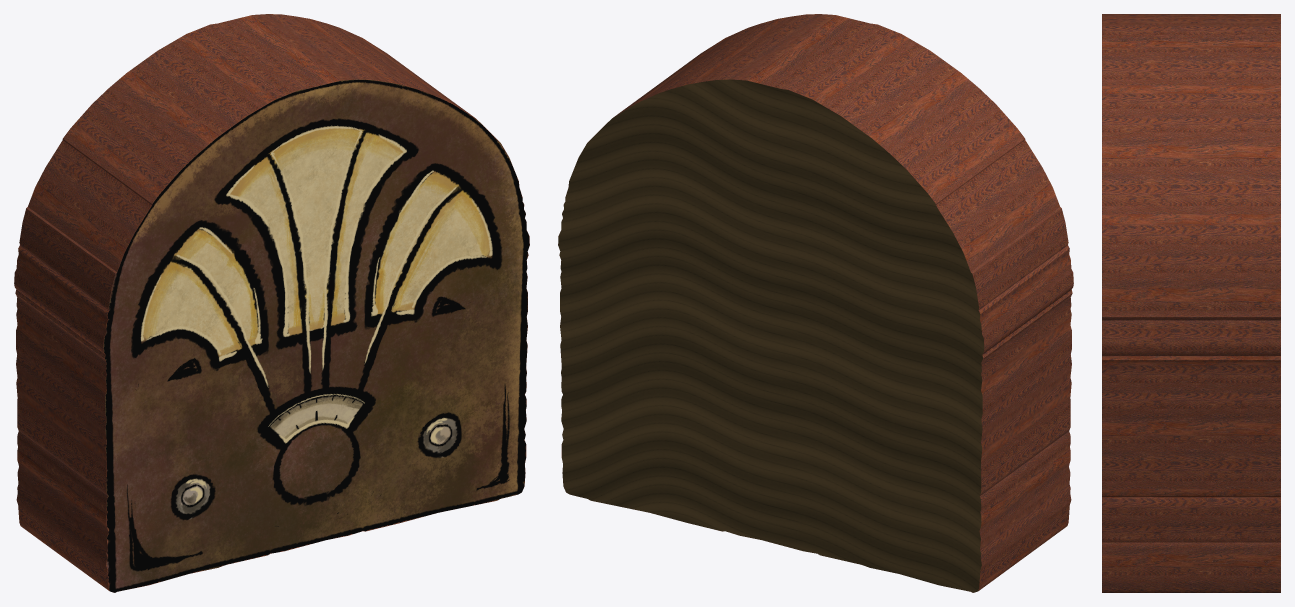
The model's file is RadioWoodenBodyDepth.fbx.
The picture shows the model from 3 angles, left to right: view 1: azimuth 30°, elevation 25°; view 2: azimuth 150°, elevation 25°; view 3: azimuth 270°, elevation 25°; orthographic projection.
Visible parts, largest first — view 1: RadioWoodenBodyDepth; view 2: RadioWoodenBodyDepth; view 3: RadioWoodenBodyDepth.
Boxes of the visible parts, x1,y1,x2,y2 form: RadioWoodenBodyDepth: (14,14,529,592); RadioWoodenBodyDepth: (558,14,1073,592); RadioWoodenBodyDepth: (1102,14,1280,592).
Size of the model in its own units: 13.76 by 14.15 by 4.99.
